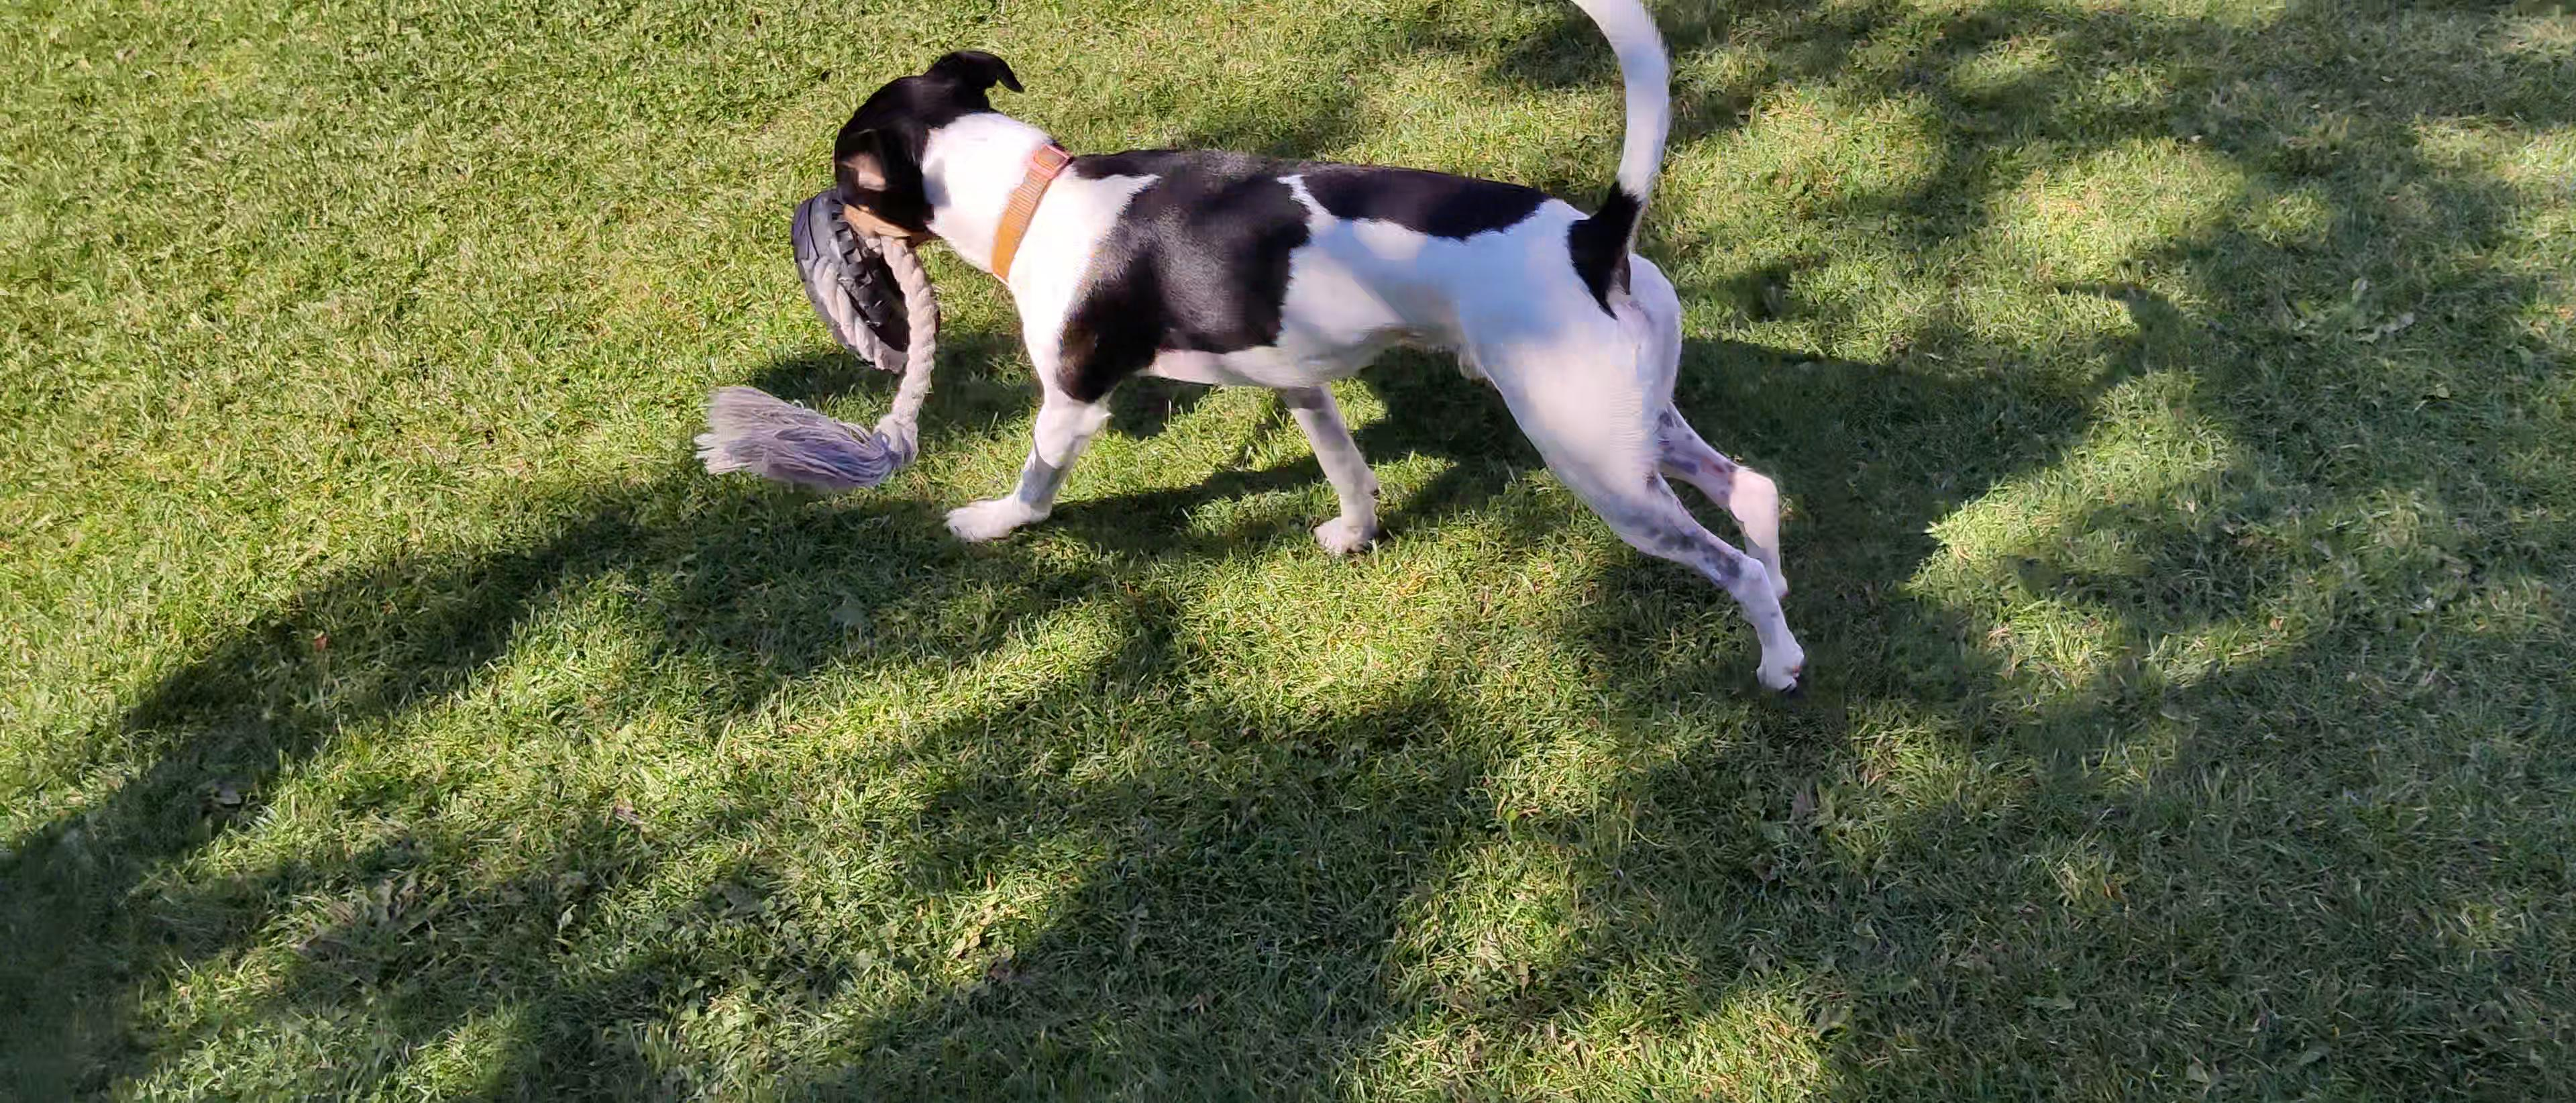Dog: (825, 0, 1830, 705)
